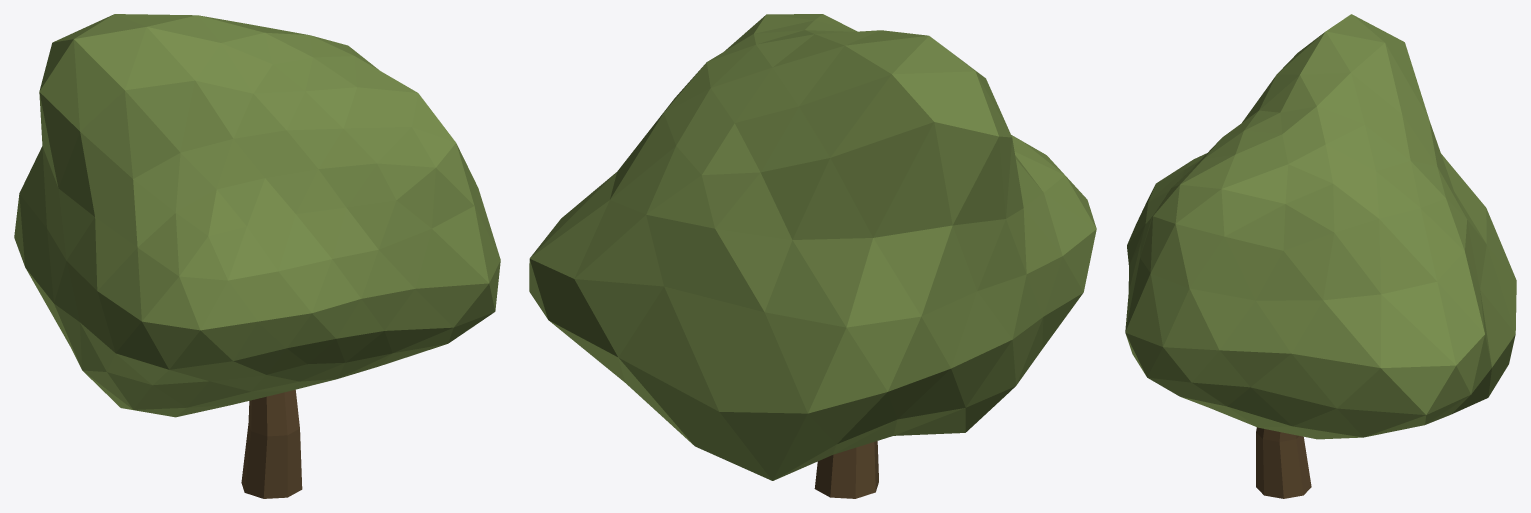
The model's file is tree1.fbx.
The picture shows the model from 3 angles, left to right: view 1: azimuth 30°, elevation 25°; view 2: azimuth 150°, elevation 25°; view 3: azimuth 270°, elevation 25°; orthographic projection. The views are drawn at different scales.
Visible parts, largest first — view 1: tree1; view 2: tree1; view 3: tree1.
Part boxes in pixels (x1,y1,x2,y2): tree1: (14,14,500,498); tree1: (529,14,1096,498); tree1: (1125,14,1516,498).
Size of the model in its own units: 97.55 by 106 by 91.52.
